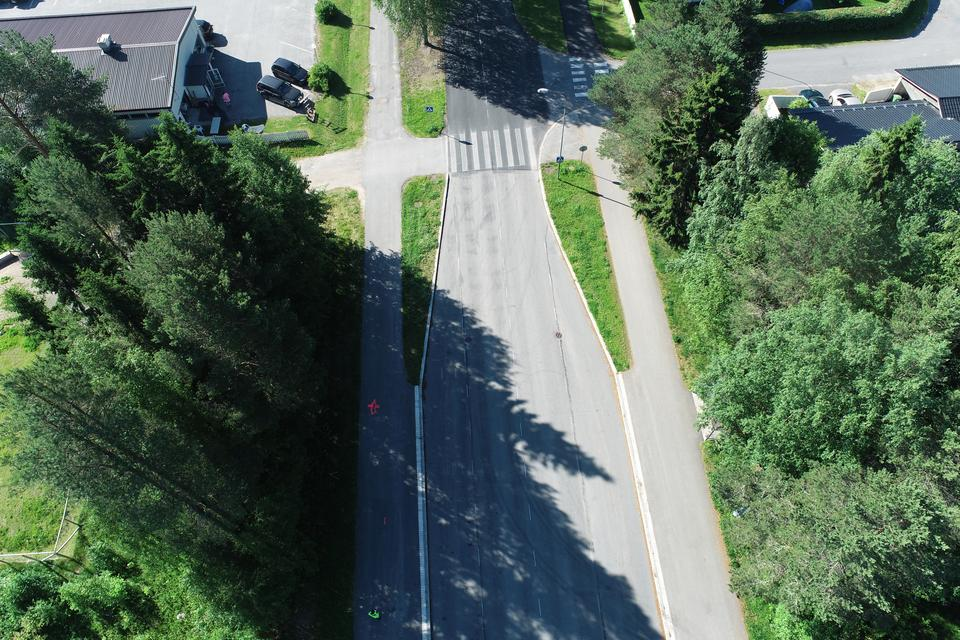intersection: (347, 46, 651, 191)
